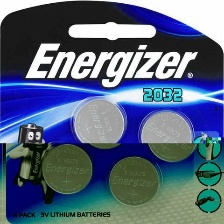battery: (137, 109, 201, 164), (39, 141, 96, 198), (106, 154, 162, 208), (72, 96, 125, 150)
book: (0, 0, 223, 223)
